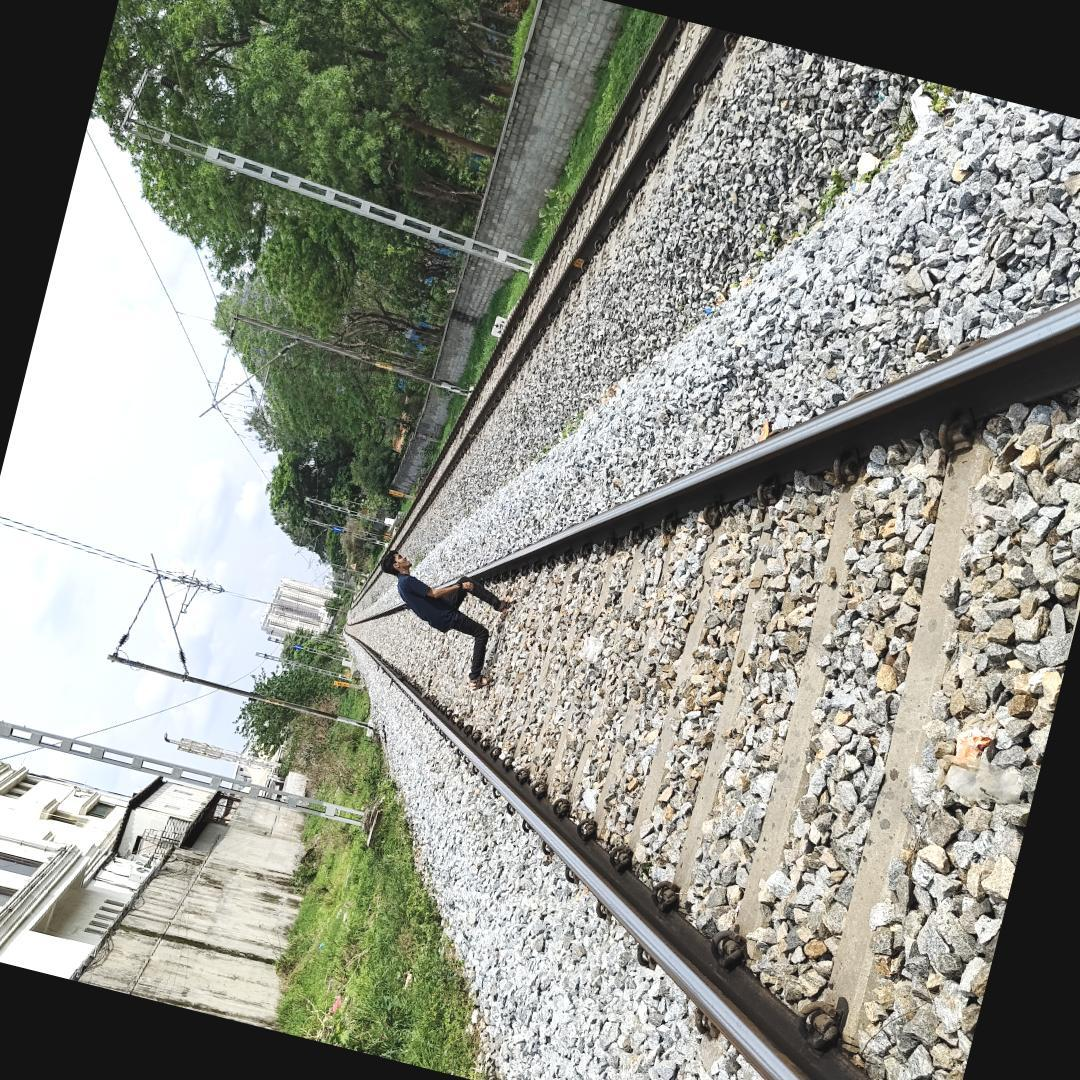sitting: (376, 544, 518, 691)
track: (337, 269, 1080, 1080)
